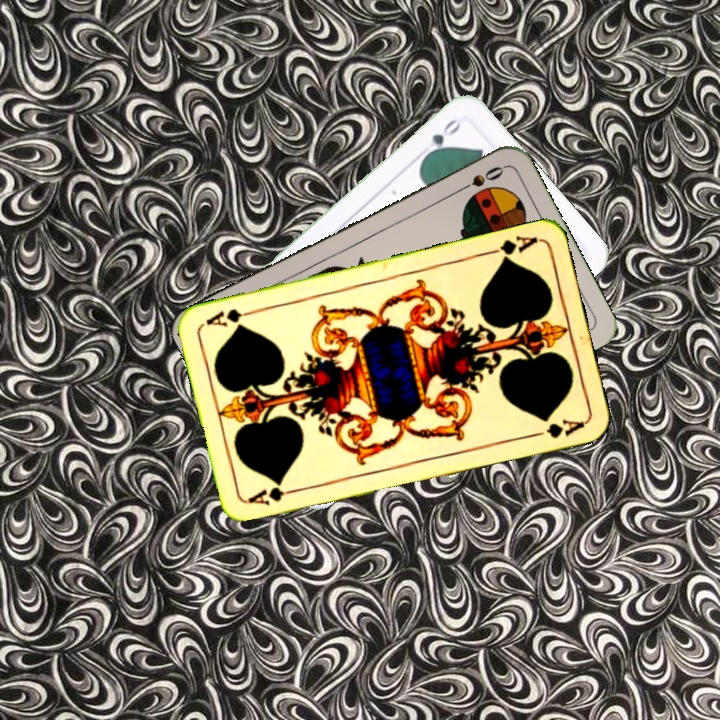GA: (482, 232, 541, 264), (244, 483, 303, 509)
GO: (420, 114, 465, 161)
SO: (452, 162, 507, 196)
